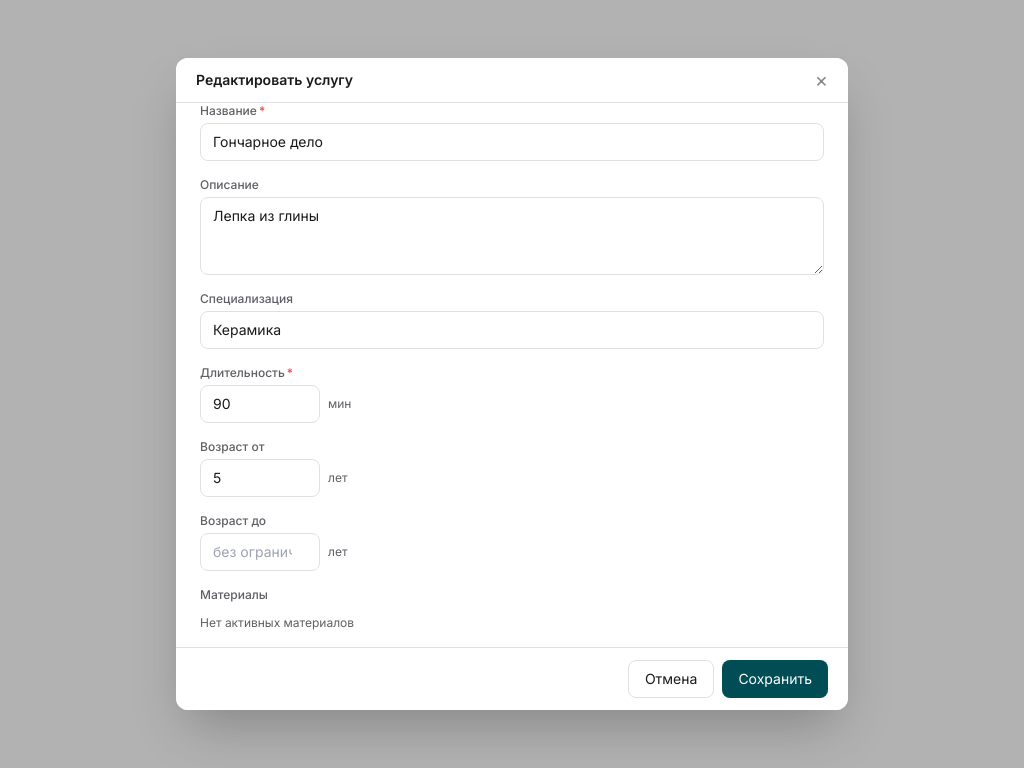
Scenario: ServiceModal — edit service with max_age null (GH #203 §4.3) › cross-rule: clearing «до» after a violation → saves without errors
The image size is (1024, 768).
Replace the text in the number field labelled "Возраст от" with "10": (260, 478) [200, 459, 320, 497]
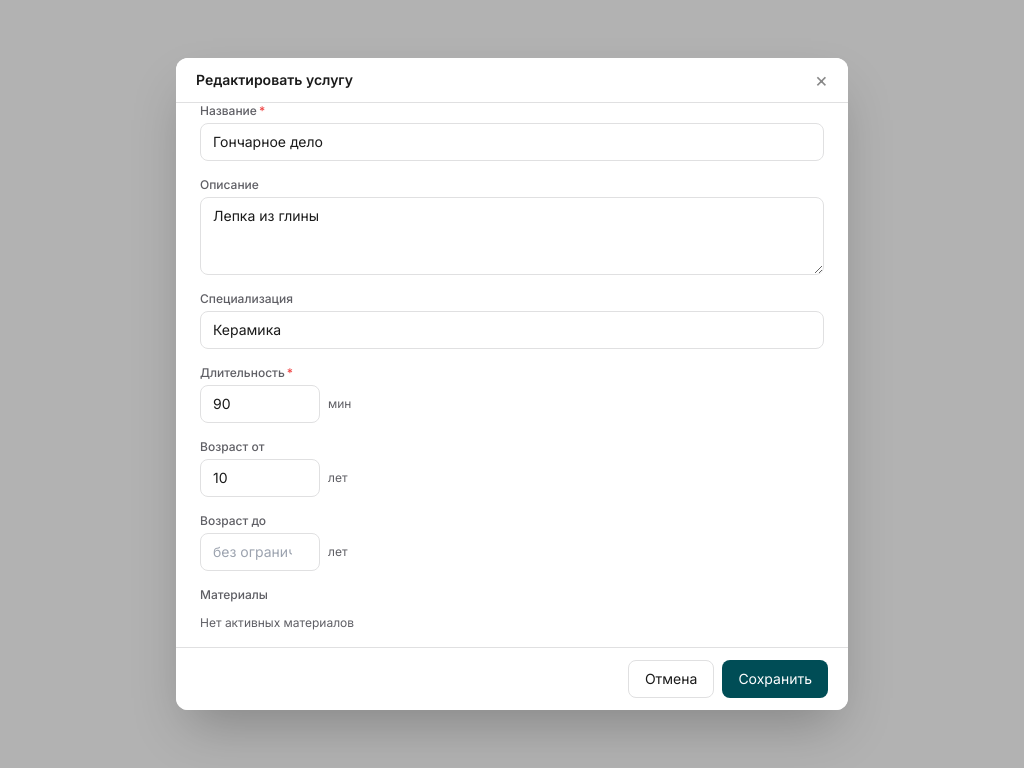
In the number field labelled "Возраст до": (260, 552) [200, 533, 320, 571], type "5"
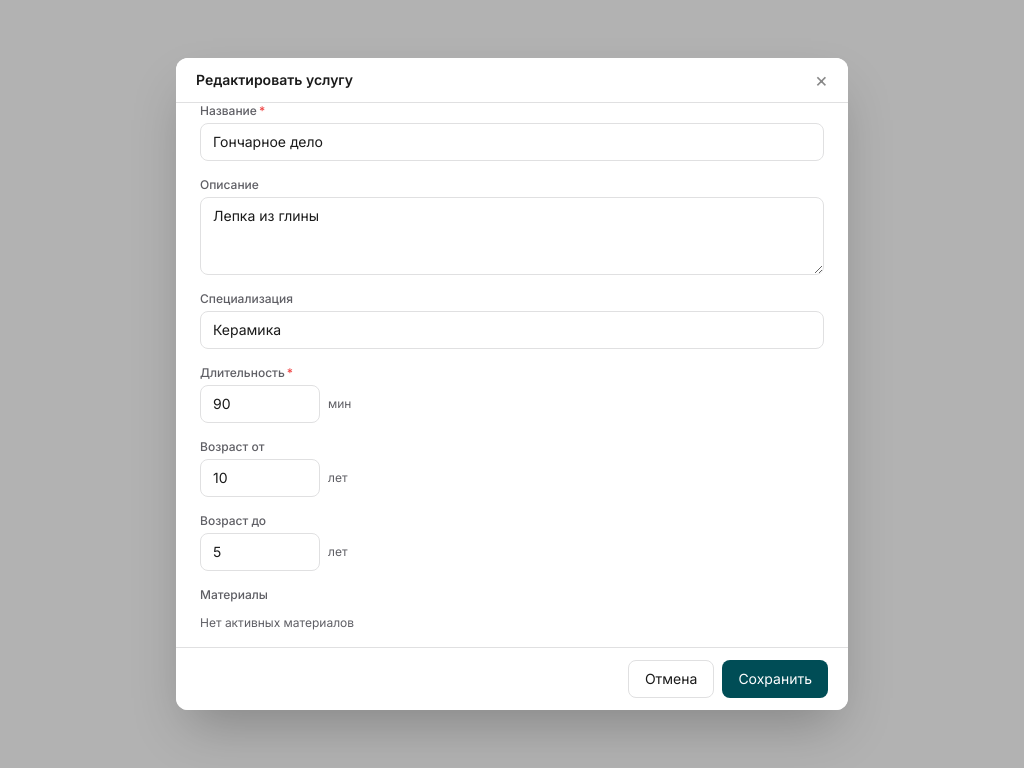
Click the button "Сохранить": (775, 679) [722, 660, 828, 698]
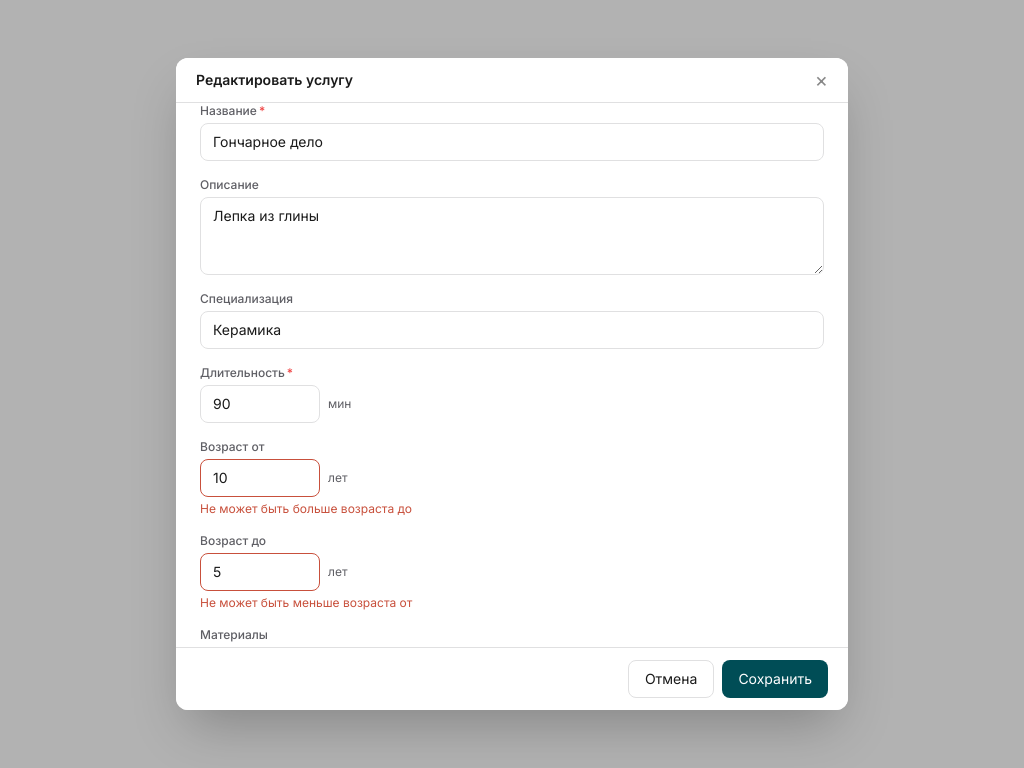
expect the text "Не может быть меньше возраста от" is shown: met, box [200, 595, 412, 610]
Clear the number field labelled "Возраст до": (260, 572) [200, 553, 320, 591]
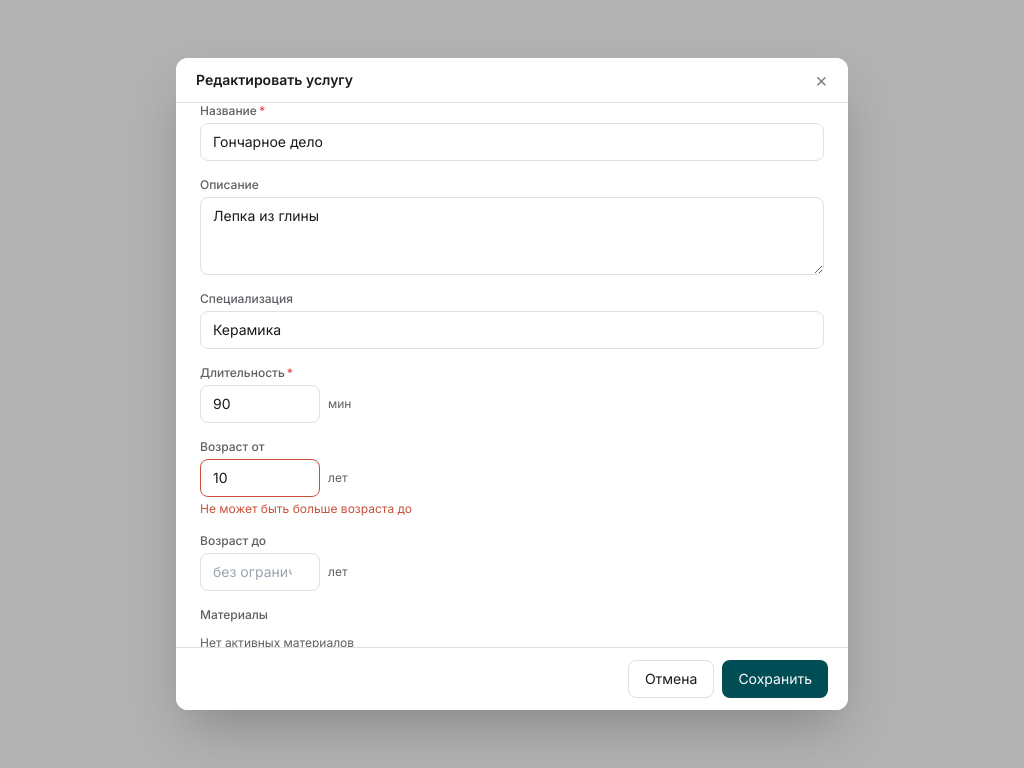
Click the button "Сохранить": (775, 679) [722, 660, 828, 698]
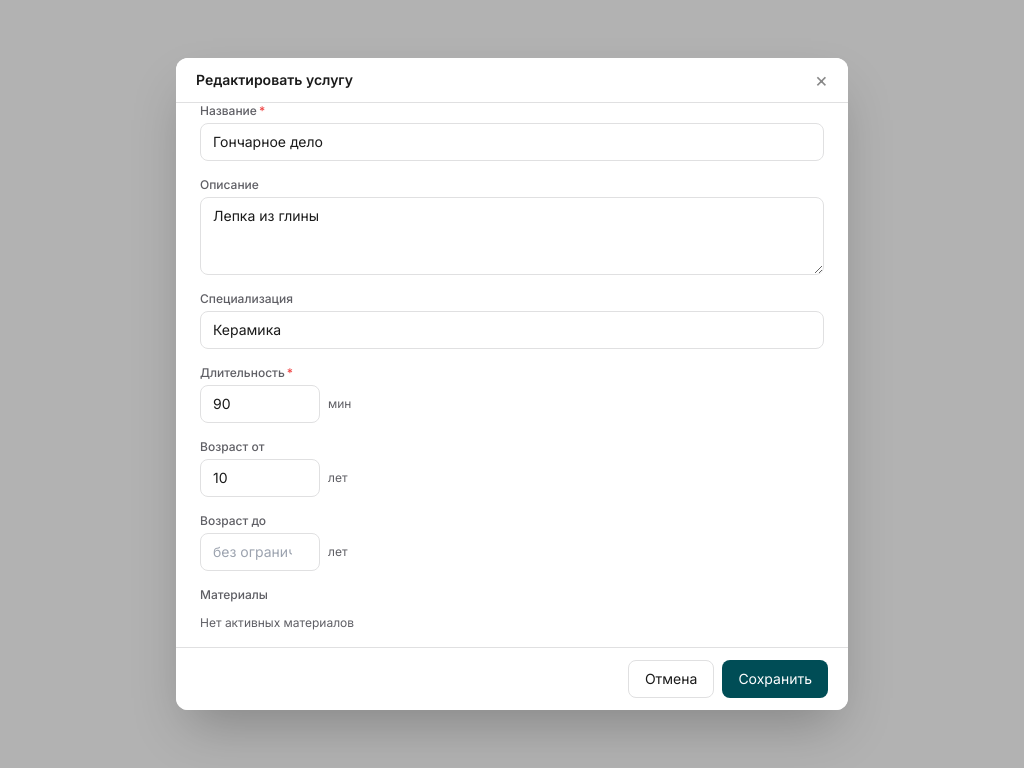
expect the text "Не может быть меньше возраста от" is not shown: met
expect the text "Не может быть больше возраста до" is gone: met
